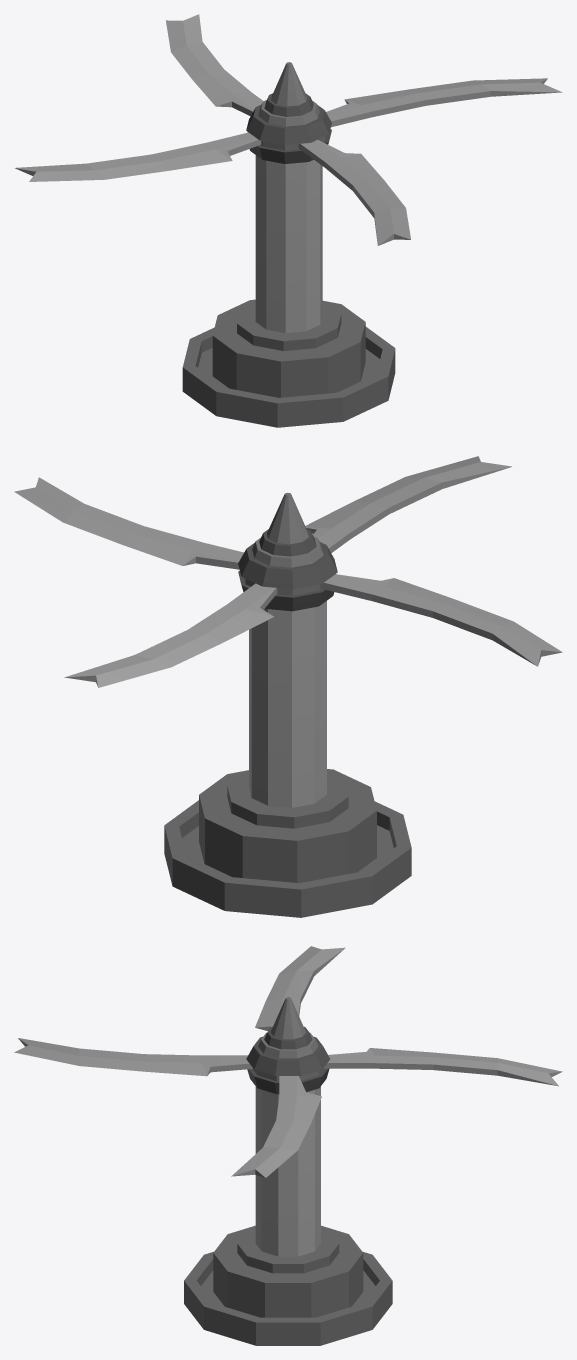
The model's file is Turning_Knifes_1_Stand.fbx.
The picture shows the model from 3 angles, top to bottom: view 1: azimuth 30°, elevation 25°; view 2: azimuth 150°, elevation 25°; view 3: azimuth 270°, elevation 25°; orthographic projection. The views are drawn at different scales.
Visible parts, largest first — view 1: Turning_Knifes_1, Turning_Knifes_1_Stand; view 2: Turning_Knifes_1, Turning_Knifes_1_Stand; view 3: Turning_Knifes_1, Turning_Knifes_1_Stand.
Boxes of the visible parts, box(x1,y1,x2,y2) form: Turning_Knifes_1: box(15, 14, 562, 333); Turning_Knifes_1_Stand: box(182, 299, 395, 427); Turning_Knifes_1: box(14, 456, 562, 807); Turning_Knifes_1_Stand: box(164, 769, 411, 917); Turning_Knifes_1: box(14, 946, 562, 1256); Turning_Knifes_1_Stand: box(184, 1225, 392, 1345).
Size of the model in its own units: 104 by 63.67 by 104.
1 material, 1 textured.
